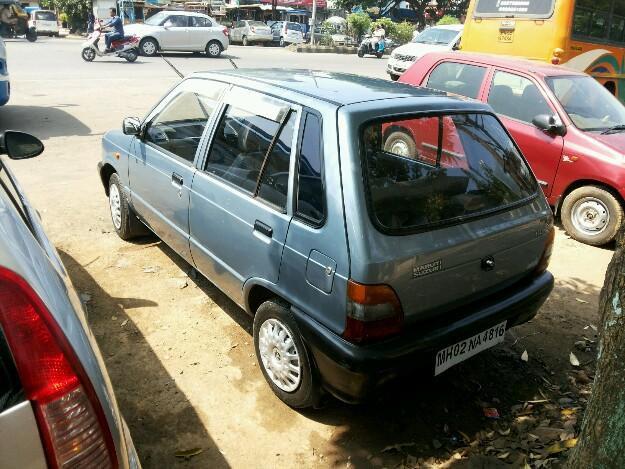number_plate: (421, 315, 524, 371)
